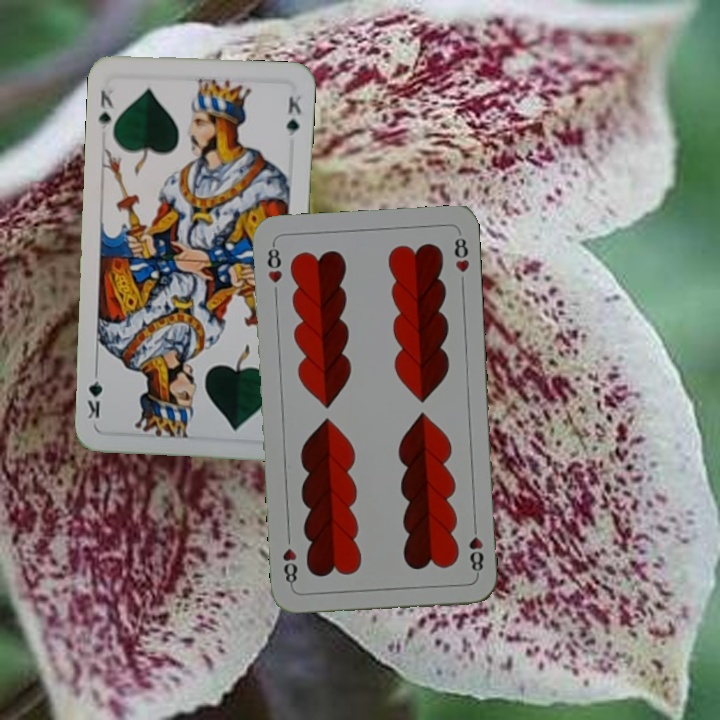GK: (94, 86, 116, 133)
H8: (465, 519, 487, 578), (263, 240, 285, 286)
